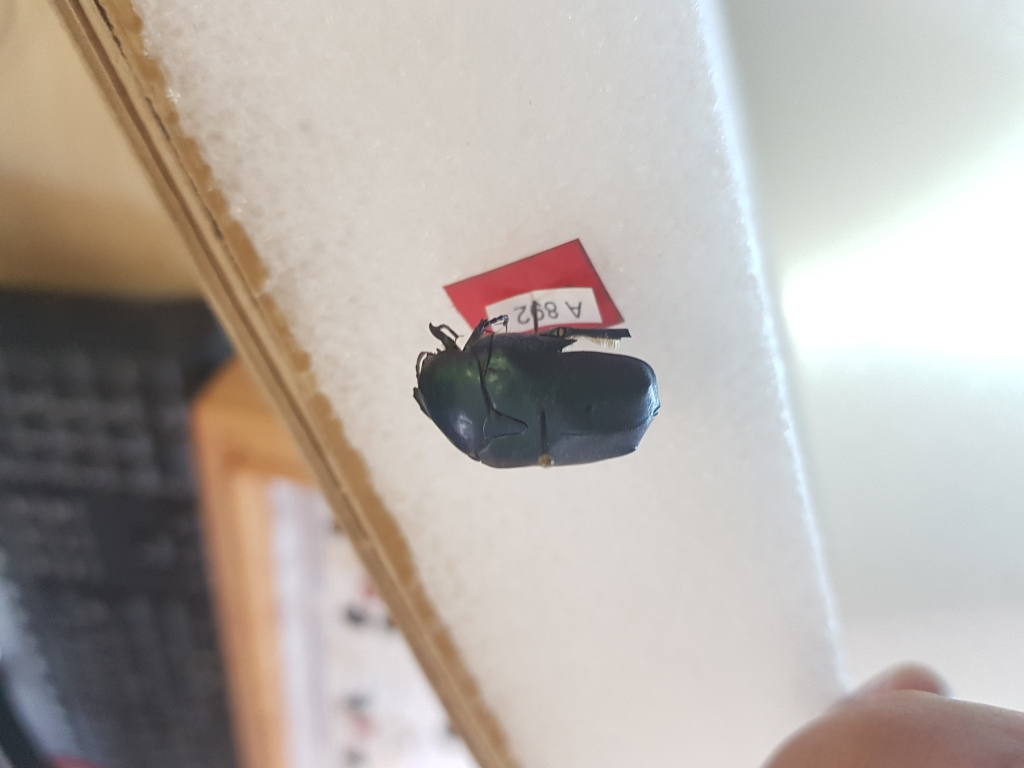Protaetia_afflicta: (395, 311, 665, 477)
